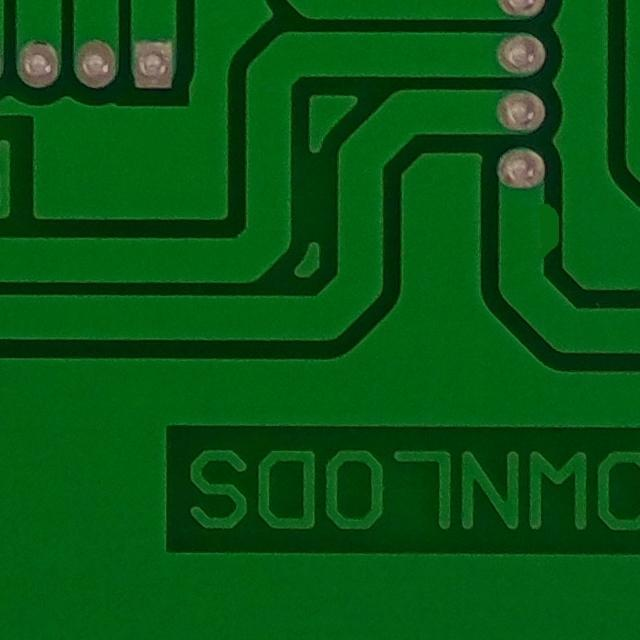spur: (515, 184, 570, 277)
